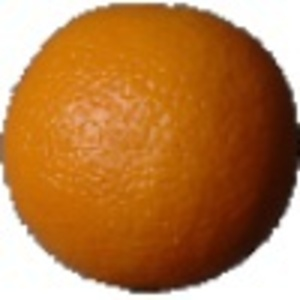laranja: (3, 5, 296, 294)
